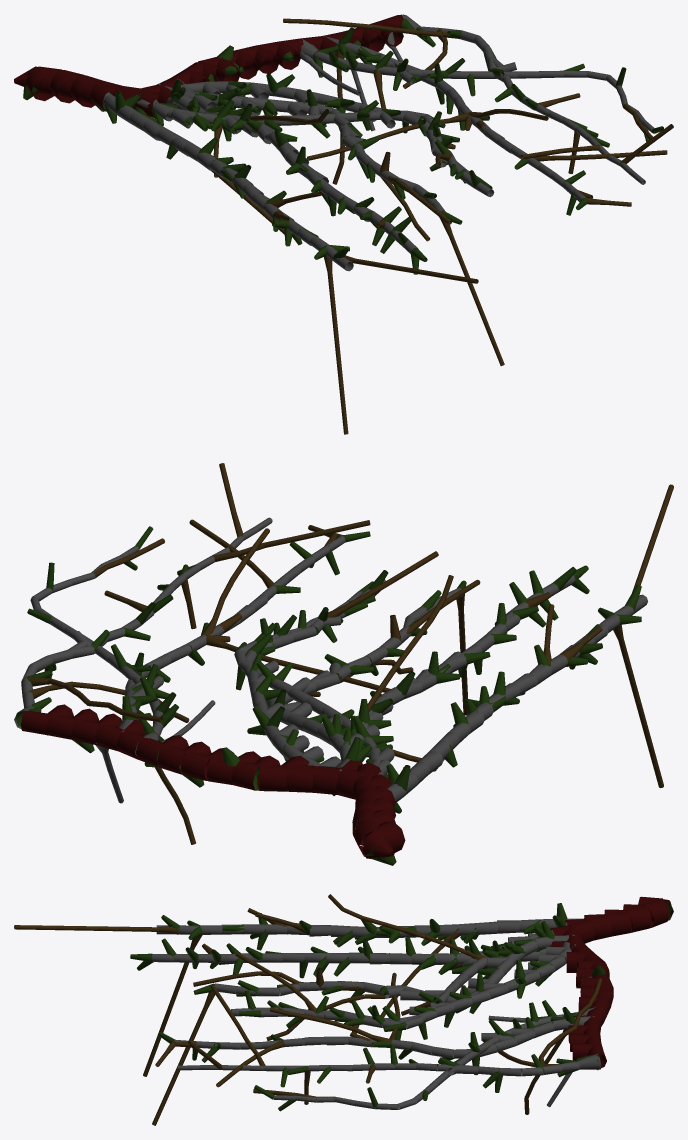
File: tree_10.obj
3 renders of one model, top to bottom at view 1: azimuth 30°, elevation 25°; view 2: azimuth 150°, elevation 25°; view 3: azimuth 270°, elevation 25°, orthographic. The views are drawn at different scales.
Bounding box in the file's own units: 22.26 × 10.98 × 30.07.
